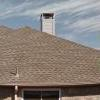Chimney: (33, 6, 60, 38)
